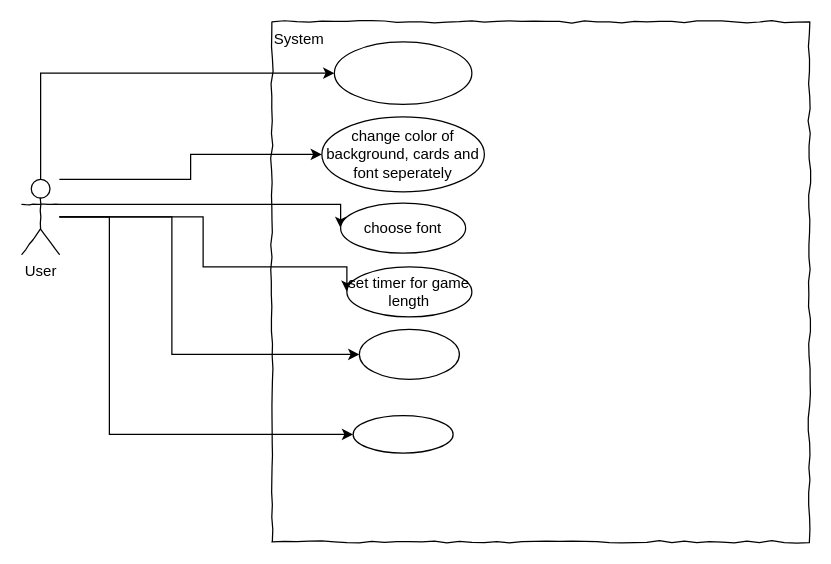
Some shapes in this 831 by 564 pixel diagram are drawn without their labels. The box of each missing label's shape, as (x1, y1, x2, y2) in pixels:
change size of cards: (333, 41, 472, 104)
enter sequence: (358, 328, 459, 379)
start game: (352, 414, 453, 453)
